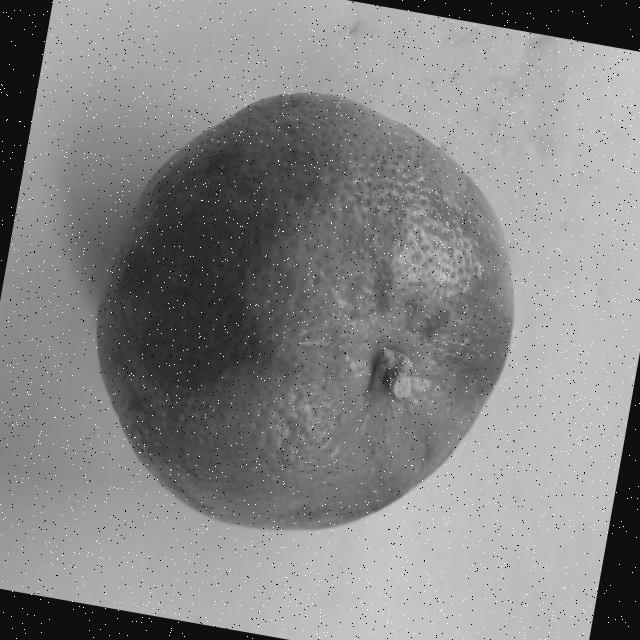overripe: (57, 54, 556, 579)
